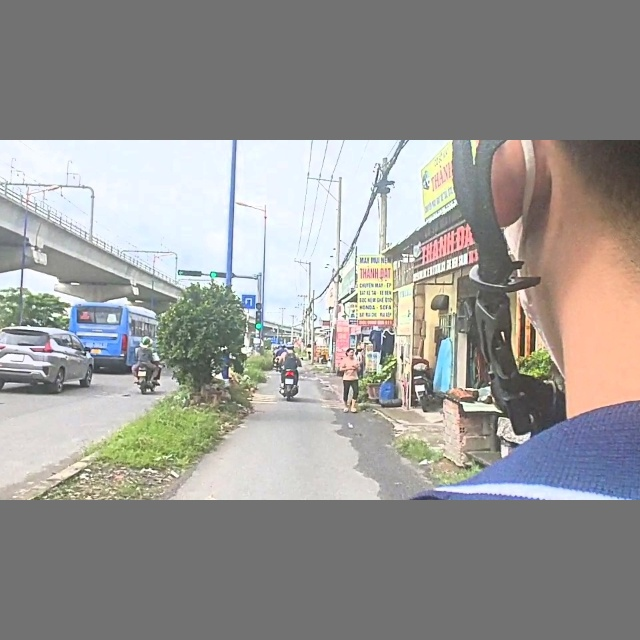I.409: (241, 292, 257, 310)
